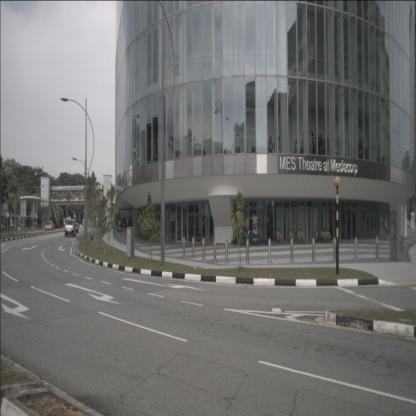human-pedestrian-adult: (122, 219, 125, 231), (127, 216, 129, 232), (119, 218, 121, 233), (129, 216, 131, 231), (125, 217, 127, 230)
vehicle-car: (64, 219, 77, 238), (45, 221, 55, 231), (69, 223, 78, 234)
